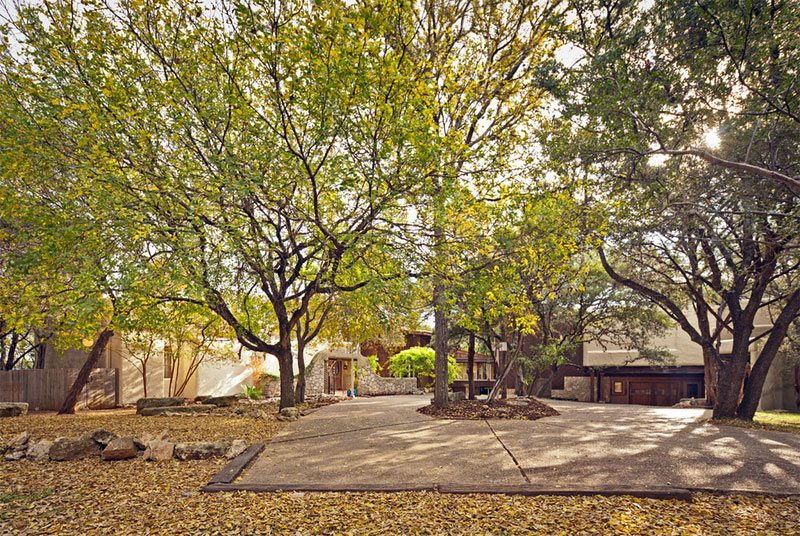tree: (43, 1, 465, 411), (597, 2, 799, 414), (345, 1, 530, 411)
